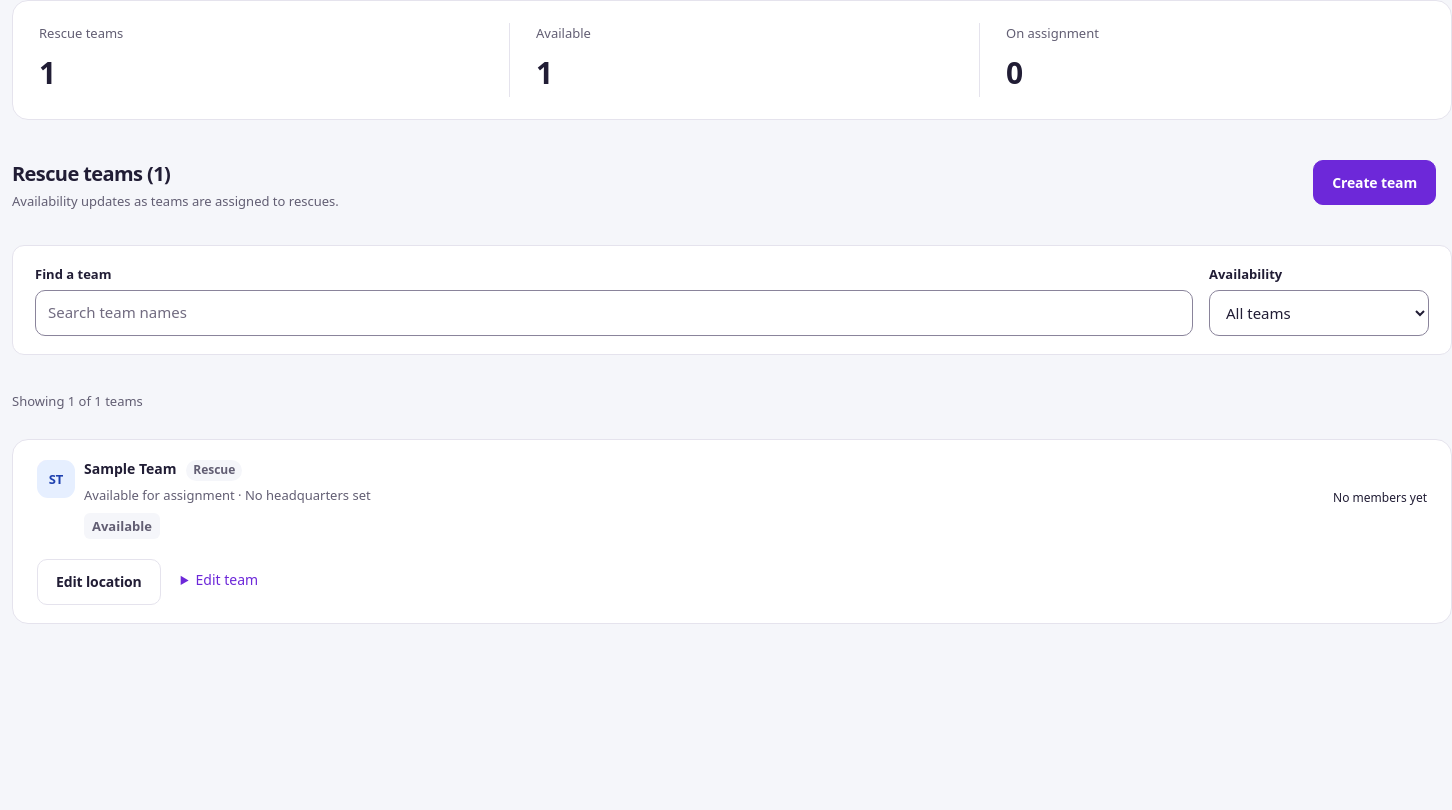
Test: filters teams by availability and recovers from an empty view
The image size is (1452, 810).
Expected: the text "Sample Team" is shown, [84,459,177,478]
Select "On assignment" in the dropdown labelled "Availability". click: (1319, 313)
box: [1209,290,1429,336]
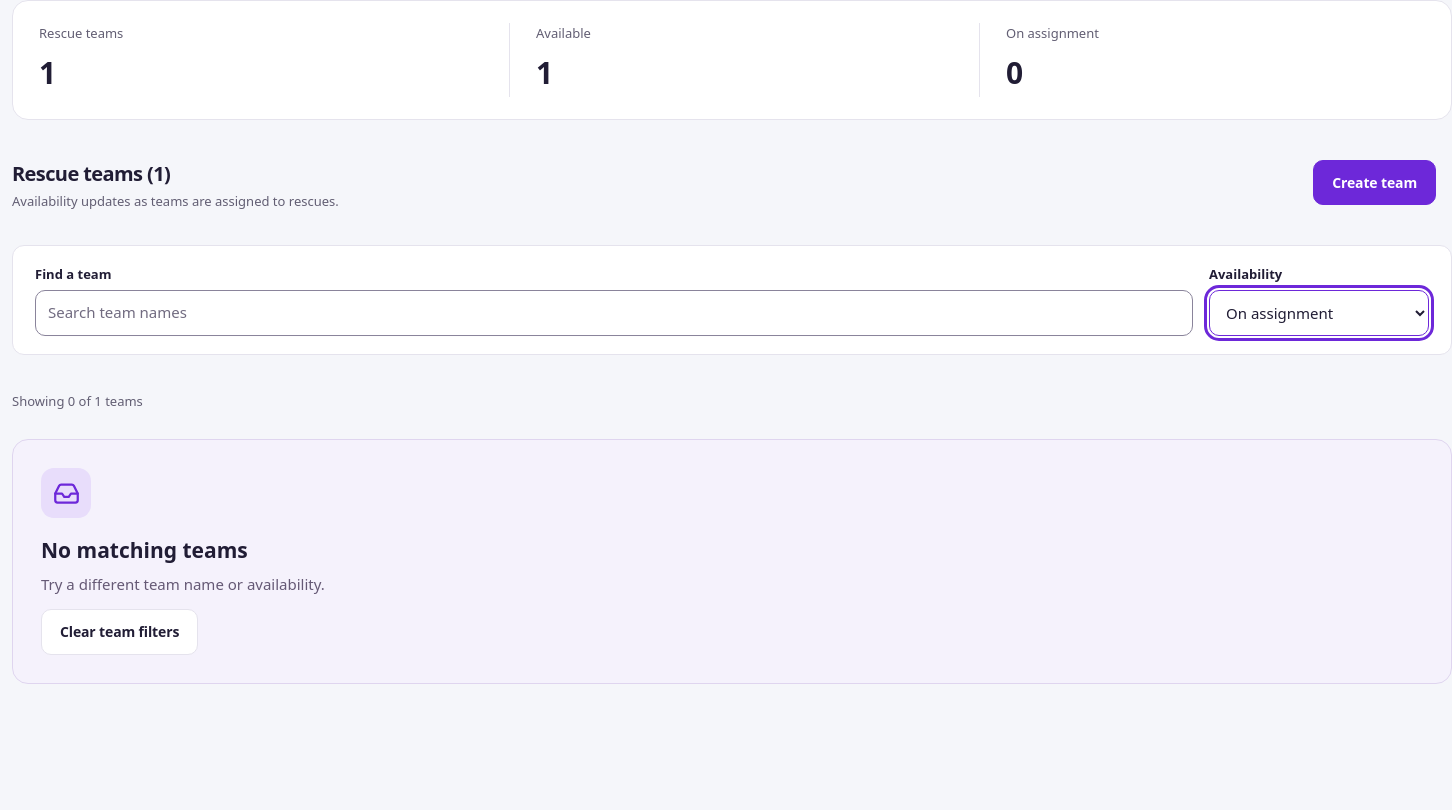
Now the heading "No matching teams" is shown, box [41,536,248,564]
Click the button "Clear team filters". click: (120, 632)
box: [41,609,198,655]
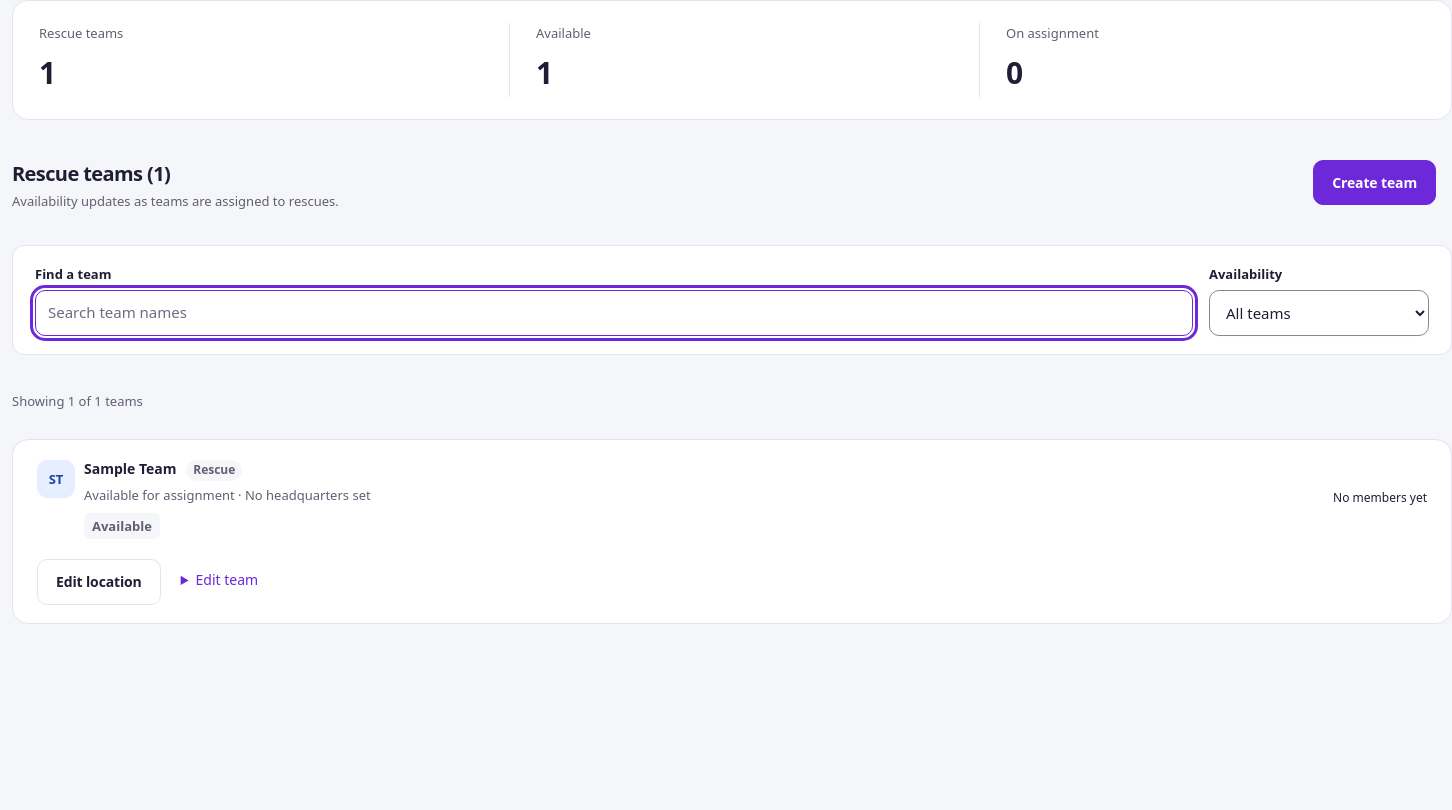
Now the text "Sample Team" is shown, box [84,459,177,478]
